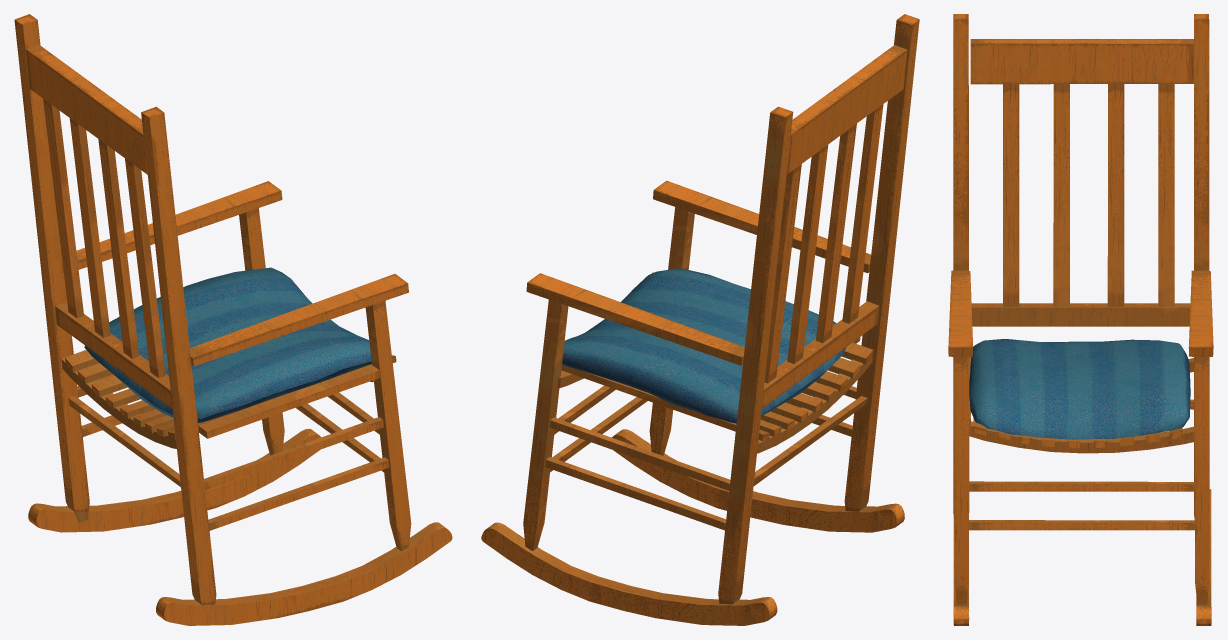
The model's file is SM_RollingChair_A1.fbx.
The picture shows the model from 3 angles, left to right: view 1: azimuth 30°, elevation 25°; view 2: azimuth 150°, elevation 25°; view 3: azimuth 270°, elevation 25°; orthographic projection. The views are drawn at different scales.
Parts seen in each view (by area): view 1: SM_RollingChair_A1; view 2: SM_RollingChair_A1; view 3: SM_RollingChair_A1.
Part boxes in pixels (<box>): SM_RollingChair_A1: <box>14,14,452,625</box>; SM_RollingChair_A1: <box>481,14,919,625</box>; SM_RollingChair_A1: <box>948,14,1213,625</box>.
Bounding box in the file's own units: 71.61 × 57.01 × 120.
1 material, 1 textured.
